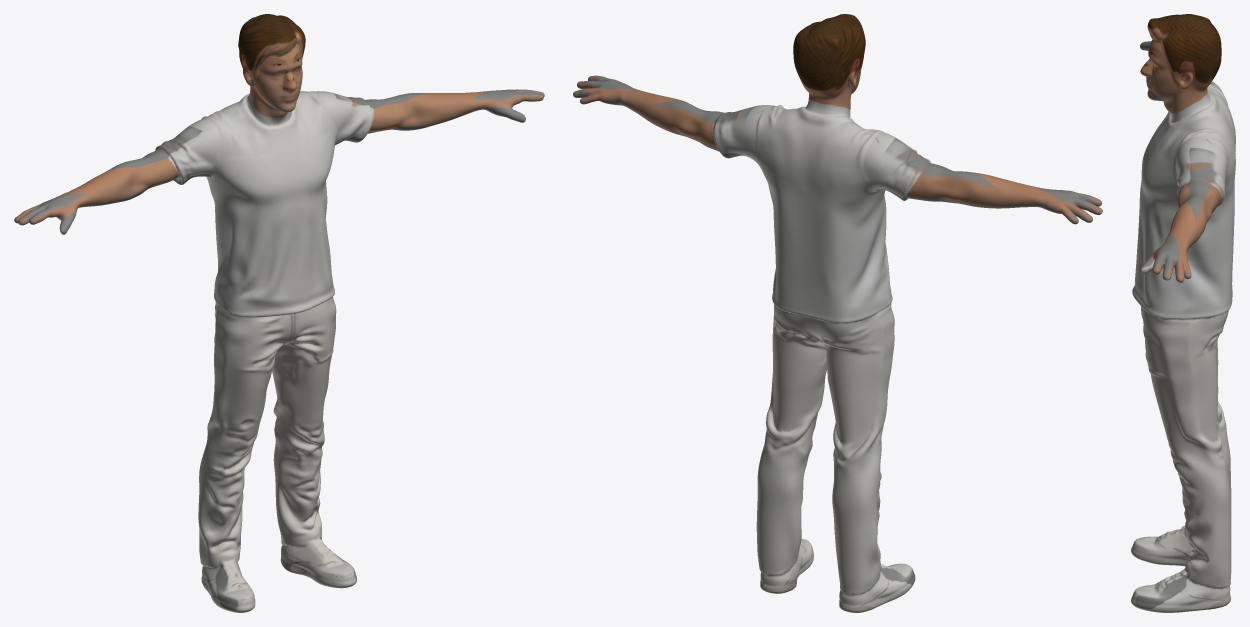
File: player.glb
3 renders of one model, left to right at view 1: azimuth 30°, elevation 25°; view 2: azimuth 150°, elevation 25°; view 3: azimuth 270°, elevation 25°, orthographic.
Parts seen in each view (by area): view 1: tripo_node_f2c63f9a-7ee6-4499-a42c-8c16015550db; view 2: tripo_node_f2c63f9a-7ee6-4499-a42c-8c16015550db; view 3: tripo_node_f2c63f9a-7ee6-4499-a42c-8c16015550db.
Boxes of the visible parts, x1,y1,x2,y2 form: tripo_node_f2c63f9a-7ee6-4499-a42c-8c16015550db: (14,14,544,612); tripo_node_f2c63f9a-7ee6-4499-a42c-8c16015550db: (573,14,1102,612); tripo_node_f2c63f9a-7ee6-4499-a42c-8c16015550db: (1131,14,1235,612).
Bounding box in the file's own units: 0.9702 × 1 × 0.1678.
1 material, 1 textured.
